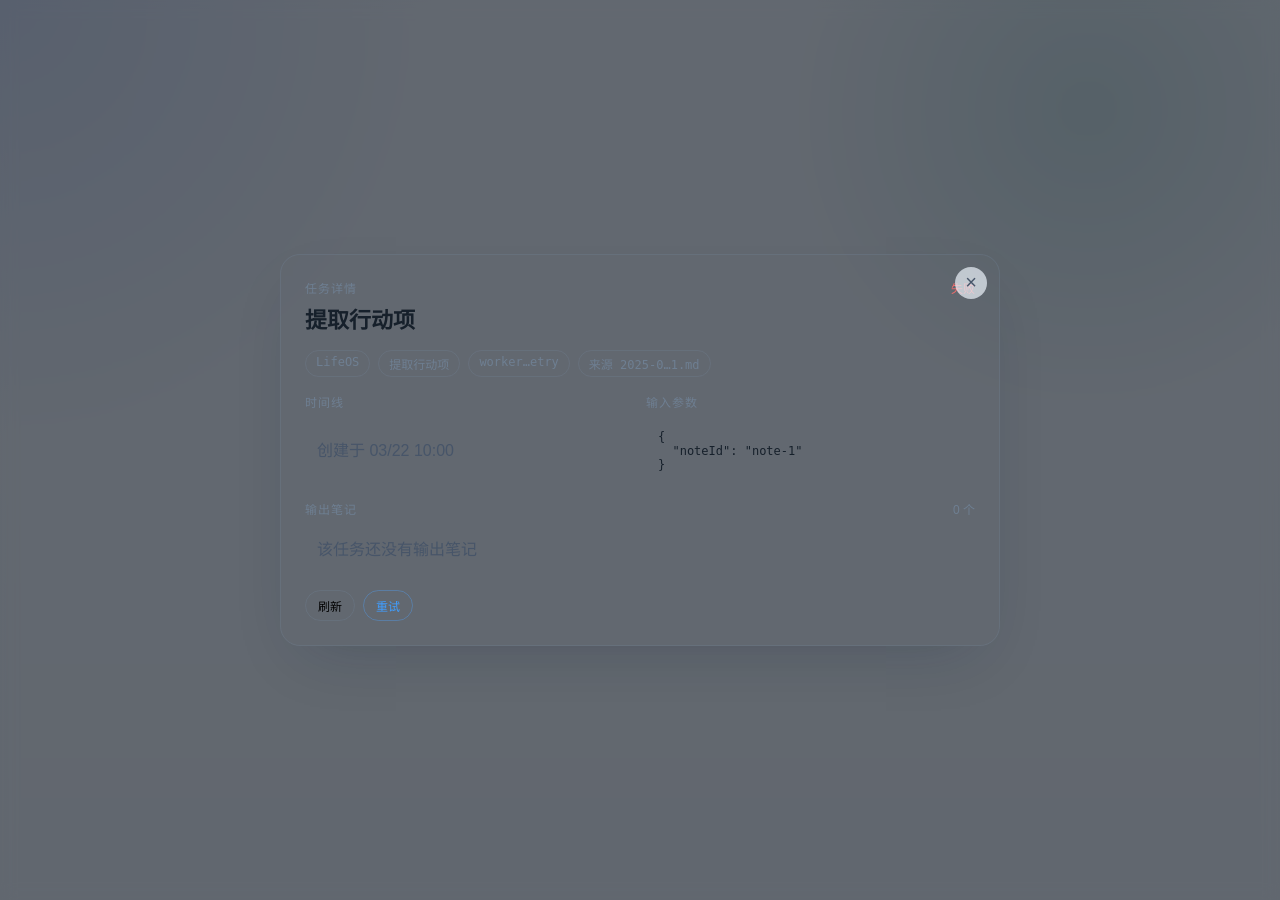
Test case: WorkerTaskDetail › renders localized metadata after retrying a task
Click the button "重试". click: [388, 606]
box: [363,590,413,621]
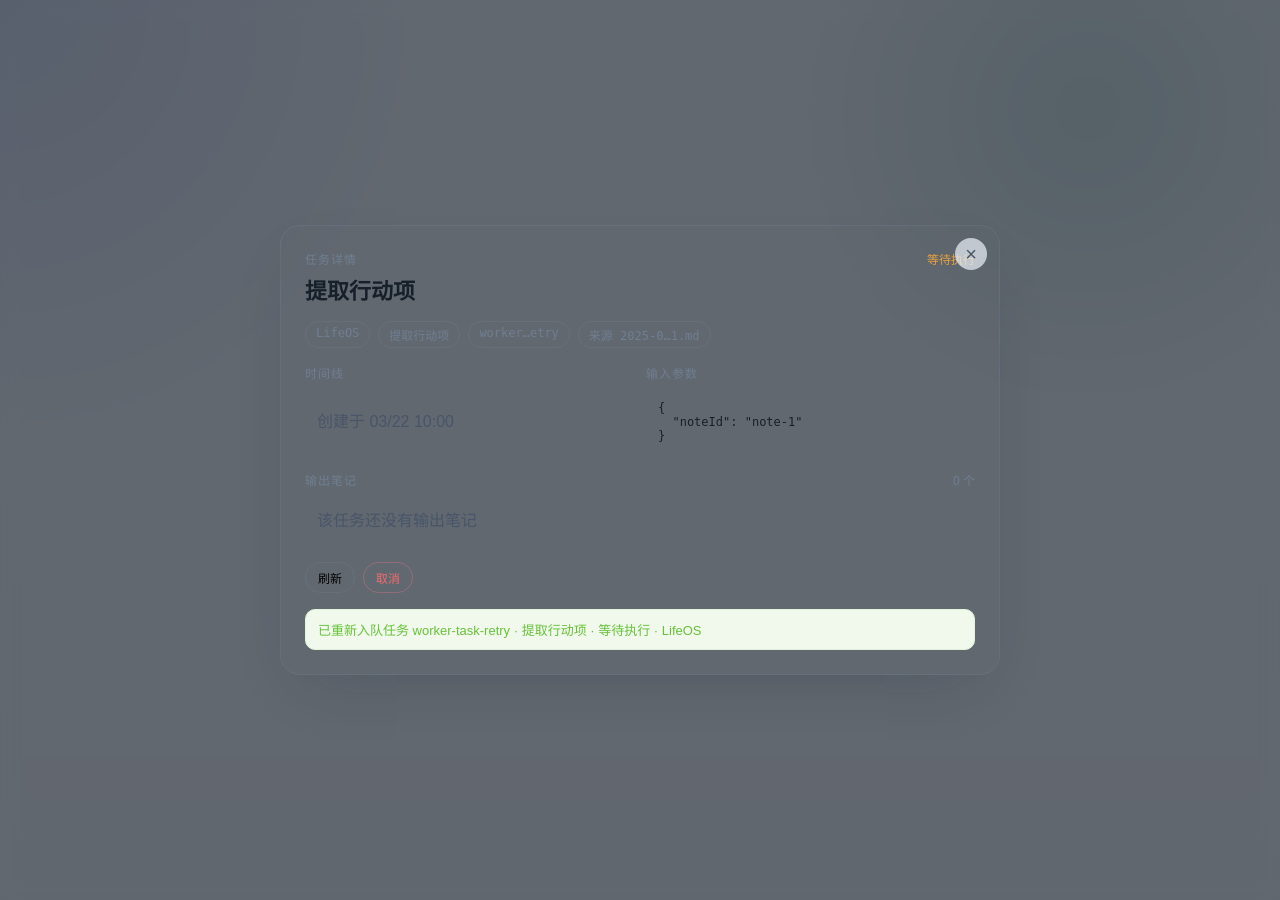
Check: the text "已重新入队任务 worker-task-retry · 提取行动项 · 等待执行 · LifeOS" is shown, box [305,609,975,650]
